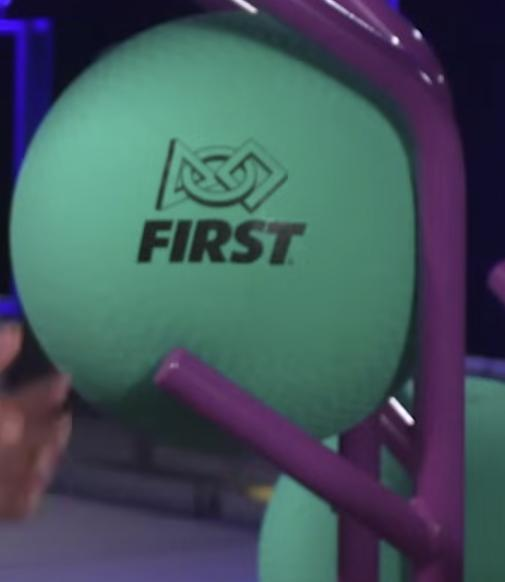algae: (11, 11, 417, 458), (257, 376, 505, 580)
